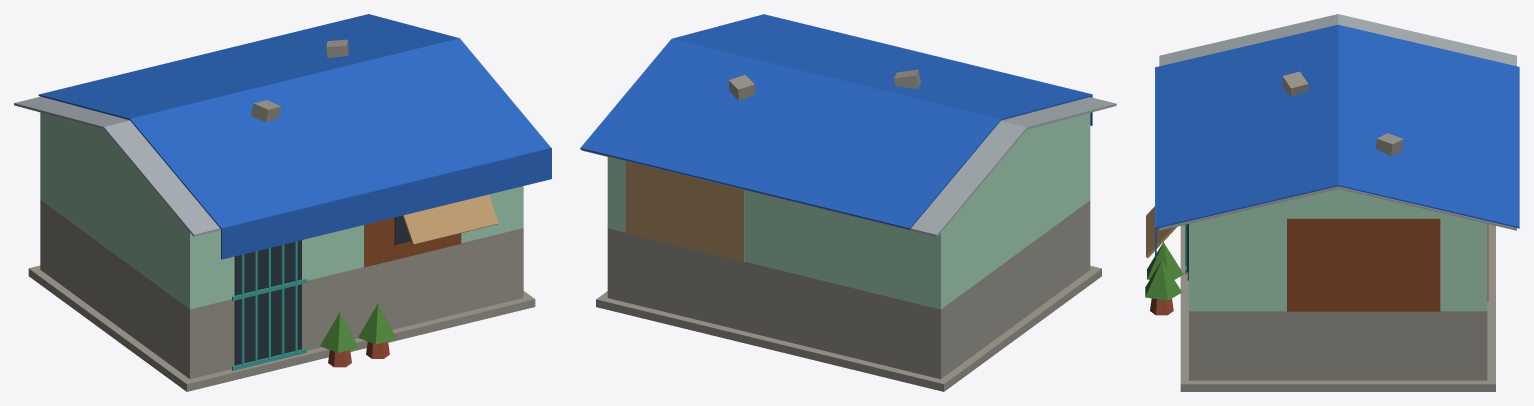
The model's file is BAY_I_TarpShack_R.glb.
3 views of the same model, side by side, from view 1: azimuth 30°, elevation 25°; view 2: azimuth 150°, elevation 25°; view 3: azimuth 270°, elevation 25° (orthographic).
Parts seen in each view (by area): view 1: BAY_I_TarpShack_R; view 2: BAY_I_TarpShack_R; view 3: BAY_I_TarpShack_R.
Part boxes in pixels (<box>): BAY_I_TarpShack_R: <box>14,14,551,391</box>; BAY_I_TarpShack_R: <box>580,14,1116,391</box>; BAY_I_TarpShack_R: <box>1145,14,1519,391</box>.
Size of the model in its own units: 4.8 by 2.76 by 4.39.
Materials: 1 (1 with a texture image).
